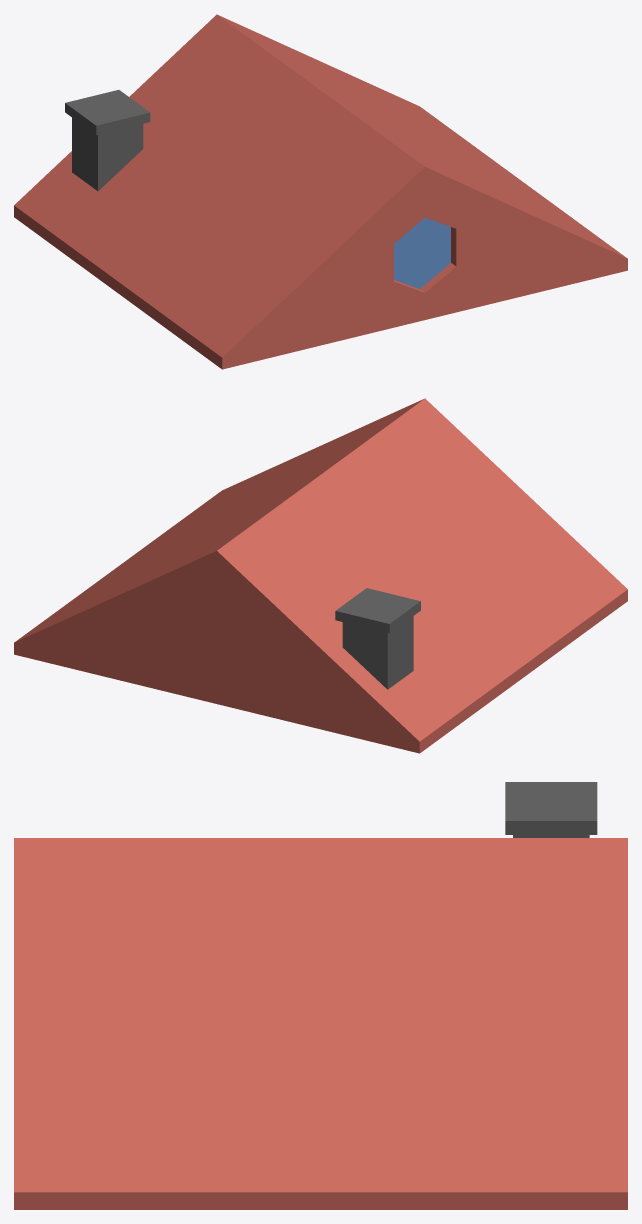
The model's file is Roof2.fbx.
The picture shows the model from 3 angles, top to bottom: view 1: azimuth 30°, elevation 25°; view 2: azimuth 150°, elevation 25°; view 3: azimuth 270°, elevation 25°; orthographic projection. The views are drawn at different scales.
Parts seen in each view (by area): view 1: Roof; view 2: Roof; view 3: Roof.
Part boxes in pixels (left/top/right/bottom): Roof: left=14, top=14, right=627, bottom=369; Roof: left=14, top=398, right=627, bottom=753; Roof: left=14, top=782, right=627, bottom=1209.
Bounding box in the file's own units: 800 × 325 × 900.
